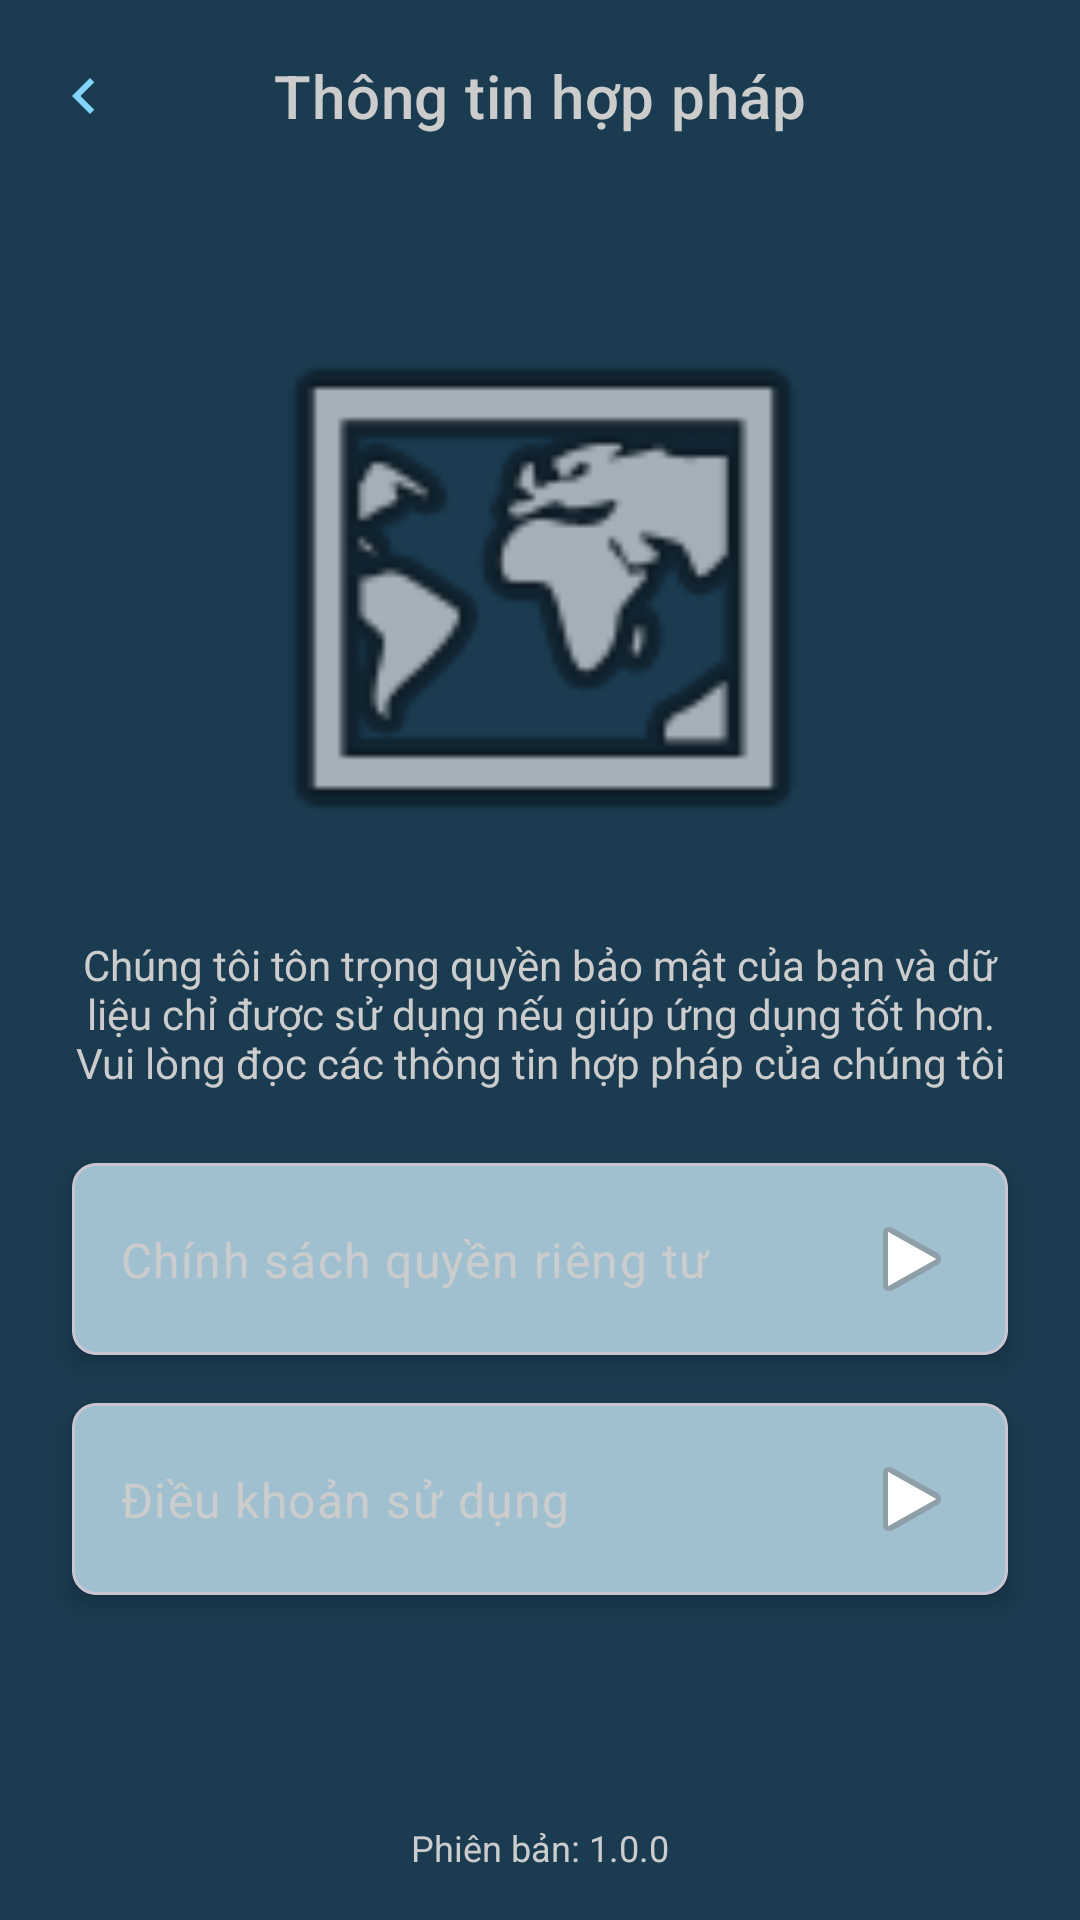

Icon bounding boxes for this 1080x1920 phone screenshot, format (x1, y1, x2, y2):
Quay lại: (72, 78, 94, 114)
